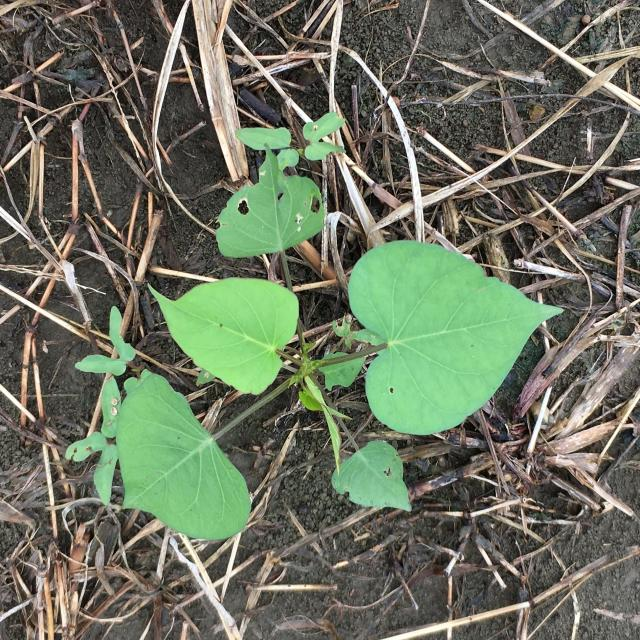MorningGlory: (66, 142, 565, 540), (234, 112, 347, 172)
